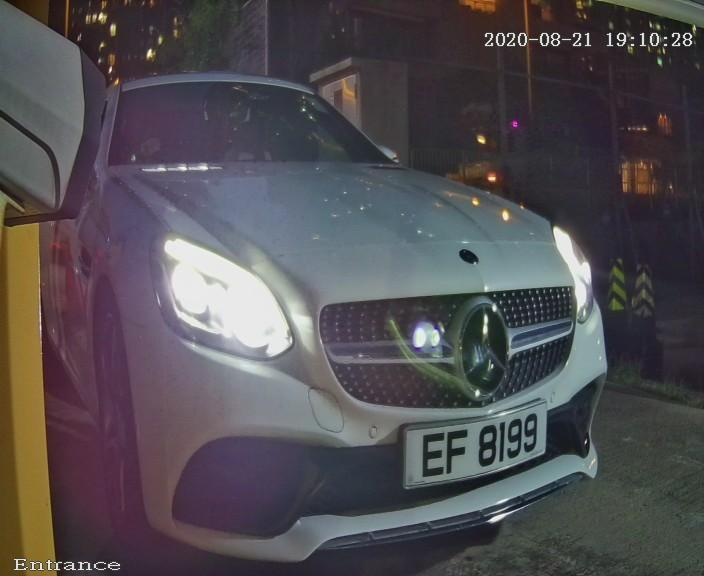Car: (23, 1, 664, 576)
License Plate: (376, 394, 568, 495)
